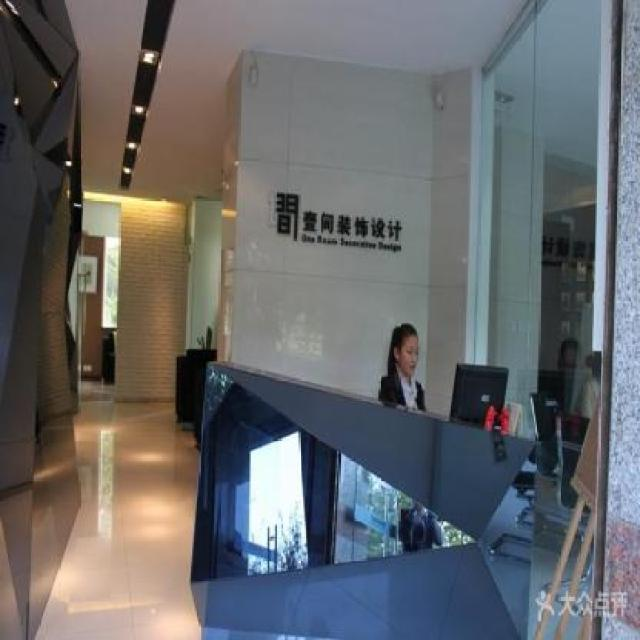frontdesk: (182, 346, 538, 639)
